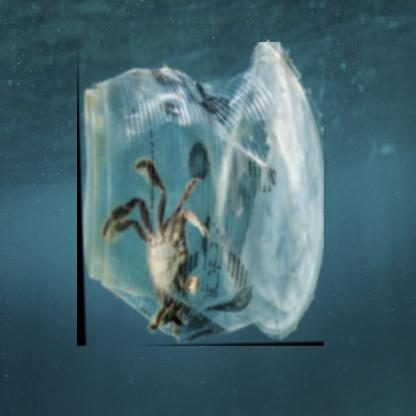waste: (77, 42, 325, 347)
